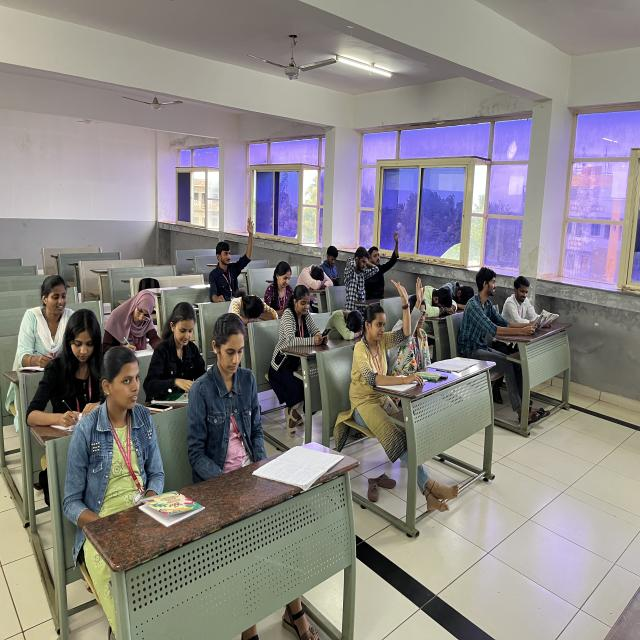Hand Rising: (356, 270, 413, 409), (396, 264, 435, 379), (210, 212, 257, 300)
Reading: (459, 263, 553, 351), (495, 264, 557, 334)
Sleeping: (409, 278, 468, 328), (438, 272, 480, 314)
Using Phone: (271, 282, 335, 387), (221, 286, 284, 335)
Writing: (29, 306, 114, 436), (103, 287, 170, 359)
